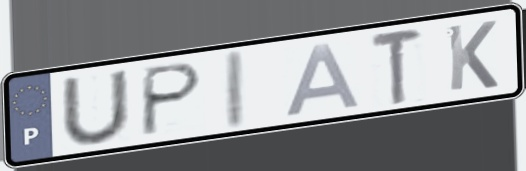A: (281, 40, 365, 119)
I: (221, 46, 249, 133)
K: (444, 18, 501, 94)
P: (137, 60, 207, 140)
T: (367, 26, 426, 107)
U: (58, 67, 134, 147)
